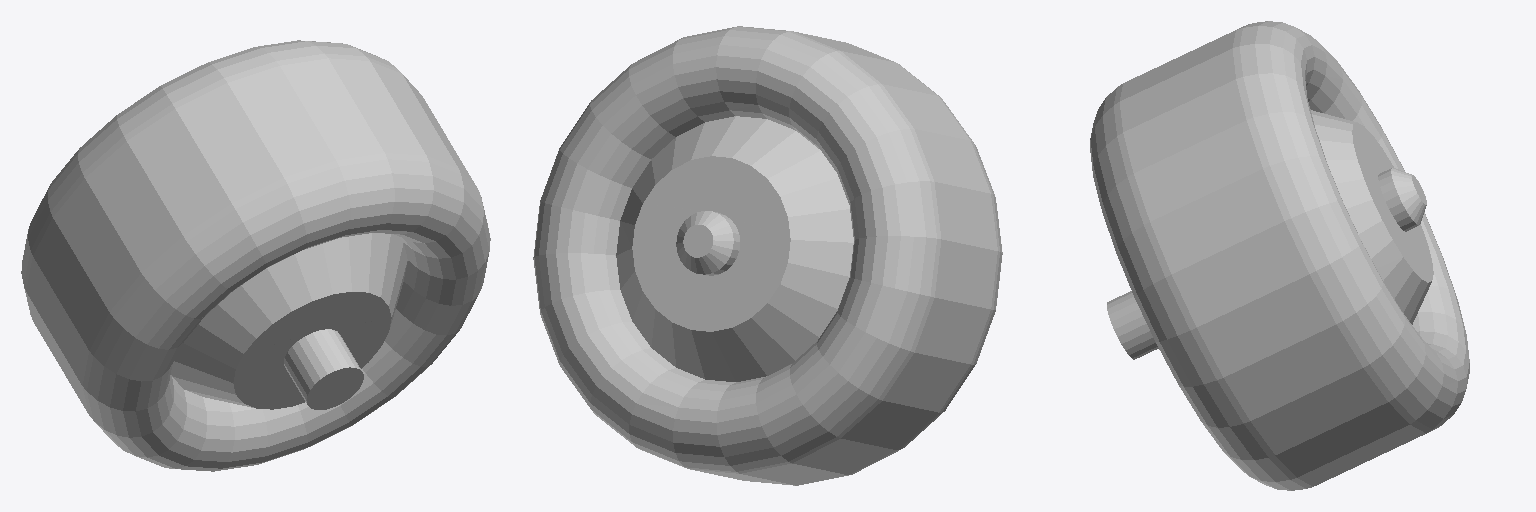
The model's file is original-42.obj.
3 views of the same model, side by side, from view 1: azimuth 30°, elevation 25°; view 2: azimuth 150°, elevation 25°; view 3: azimuth 270°, elevation 25° (orthographic).
Parts seen in each view (by area): view 1: W-35-A-1_2p/mesh26/mesh26-geometry#mesh26-geometry; view 2: W-35-A-1_2p/mesh26/mesh26-geometry#mesh26-geometry; view 3: W-35-A-1_2p/mesh26/mesh26-geometry#mesh26-geometry.
Boxes of the visible parts, x1=… form: W-35-A-1_2p/mesh26/mesh26-geometry#mesh26-geometry: x1=21, y1=40, x2=490, y2=471; W-35-A-1_2p/mesh26/mesh26-geometry#mesh26-geometry: x1=533, y1=26, x2=1002, y2=485; W-35-A-1_2p/mesh26/mesh26-geometry#mesh26-geometry: x1=1090, y1=21, x2=1469, y2=490.
Size of the model in its own units: 0.0688 by 0.0715 by 0.058.